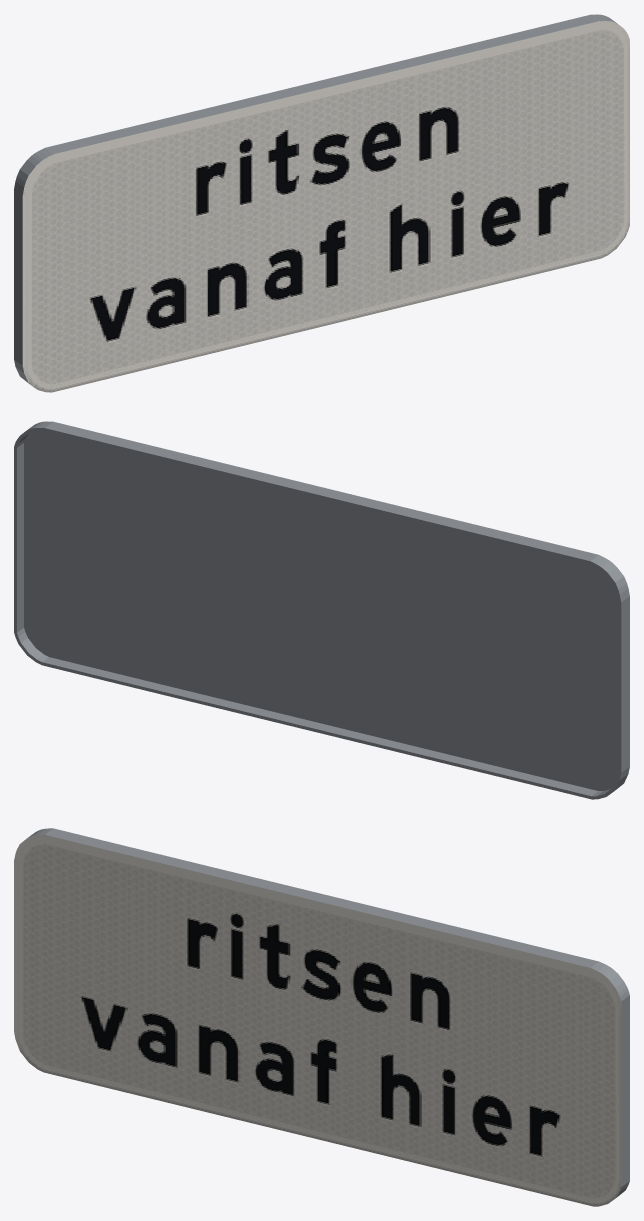
3 renders of one model, top to bottom at view 1: azimuth 30°, elevation 25°; view 2: azimuth 150°, elevation 25°; view 3: azimuth 330°, elevation 25°, orthographic.
Visible parts, largest first — view 1: cat_fcc9b09752c614e6; view 2: cat_fcc9b09752c614e6; view 3: cat_fcc9b09752c614e6.
Part boxes in pixels (bbox=[...]): cat_fcc9b09752c614e6: bbox=[14, 14, 629, 392]; cat_fcc9b09752c614e6: bbox=[14, 421, 629, 799]; cat_fcc9b09752c614e6: bbox=[14, 828, 629, 1206].
Size of the model in its own units: 0.6 by 0.015 by 0.2246.
Materials: 2 (1 with a texture image).
